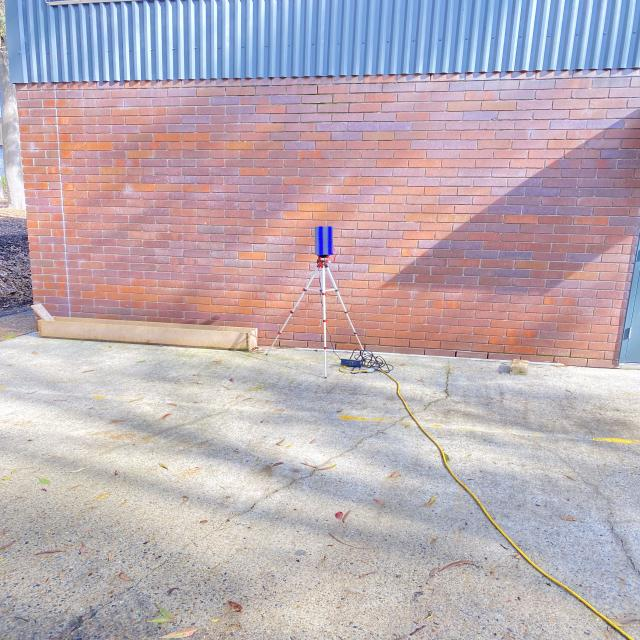matrix: (313, 225, 335, 257)
